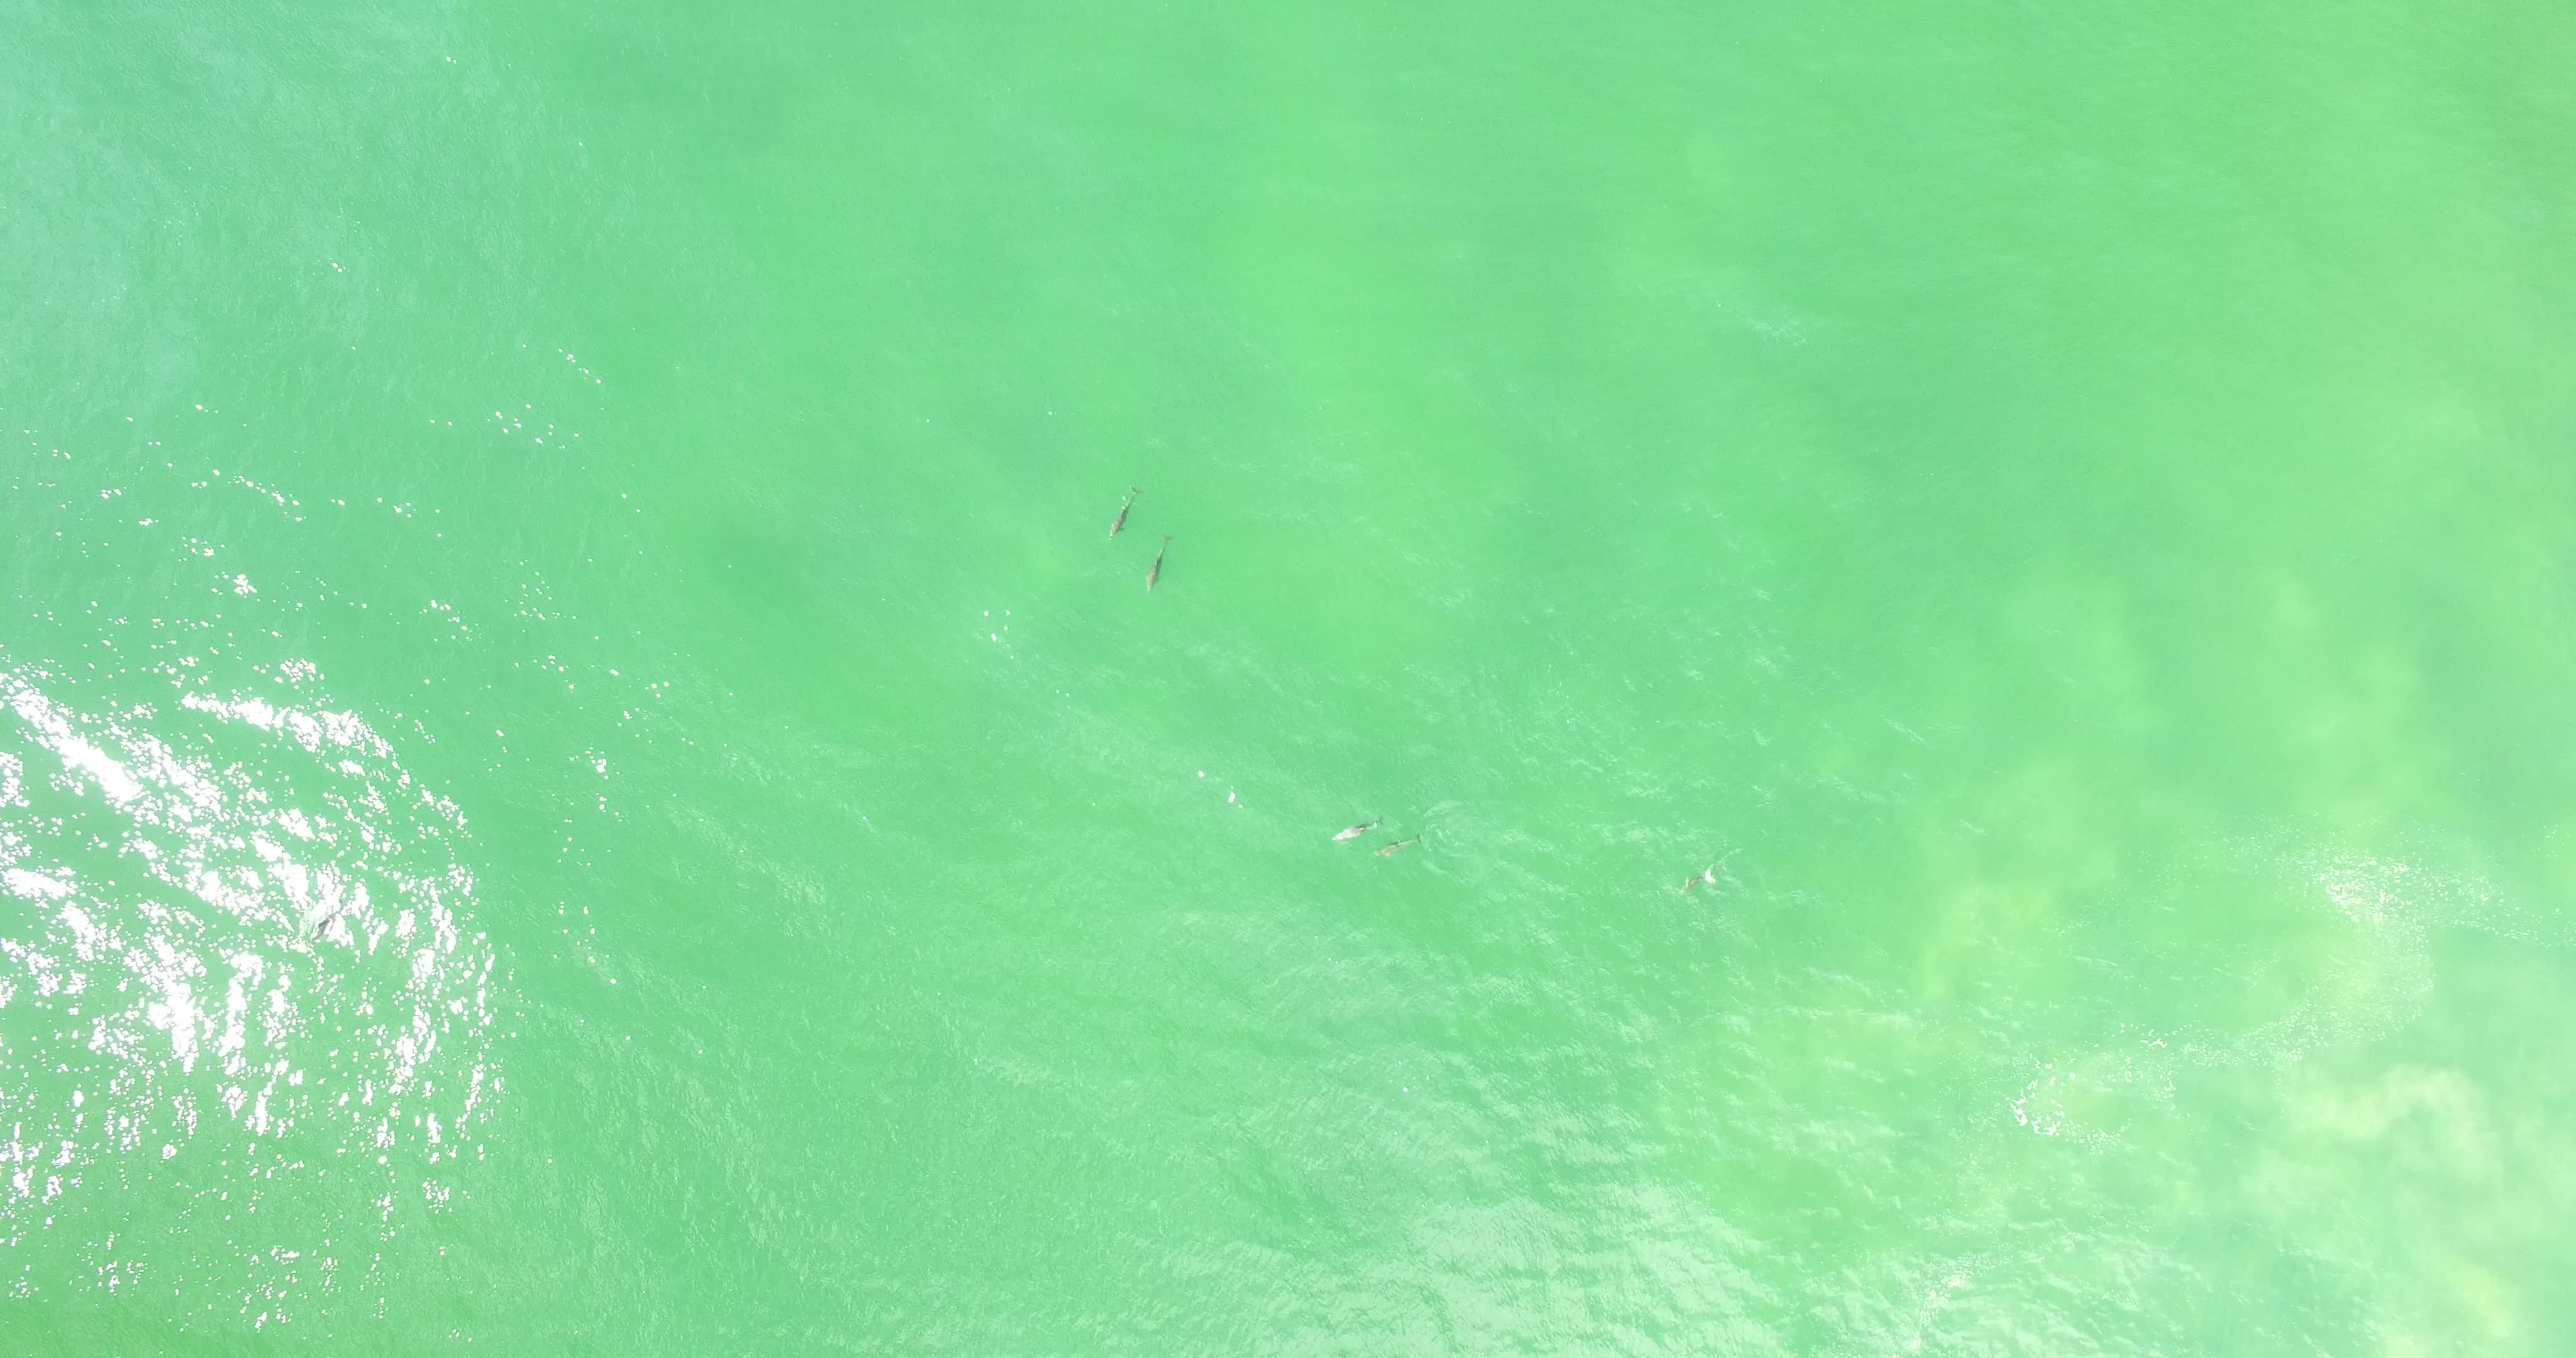dolphin: (1659, 837, 1738, 901), (1084, 472, 1152, 544), (1121, 516, 1177, 600), (1363, 803, 1421, 874), (1319, 791, 1380, 847)
